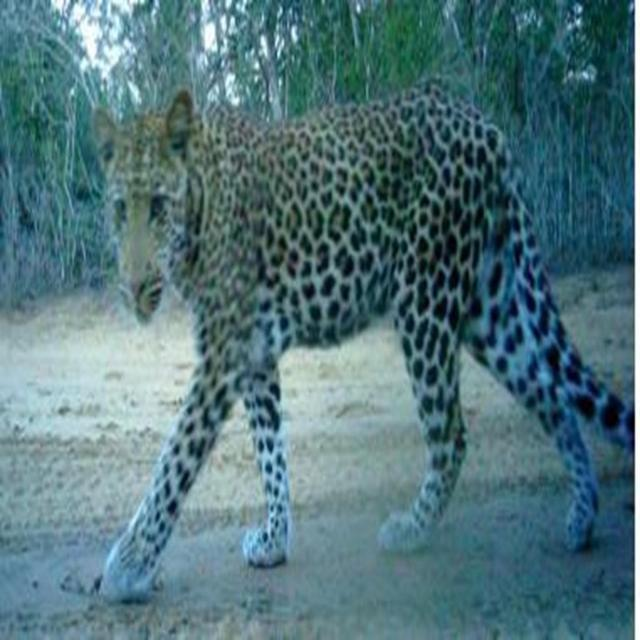Leopard: (86, 45, 628, 597)
